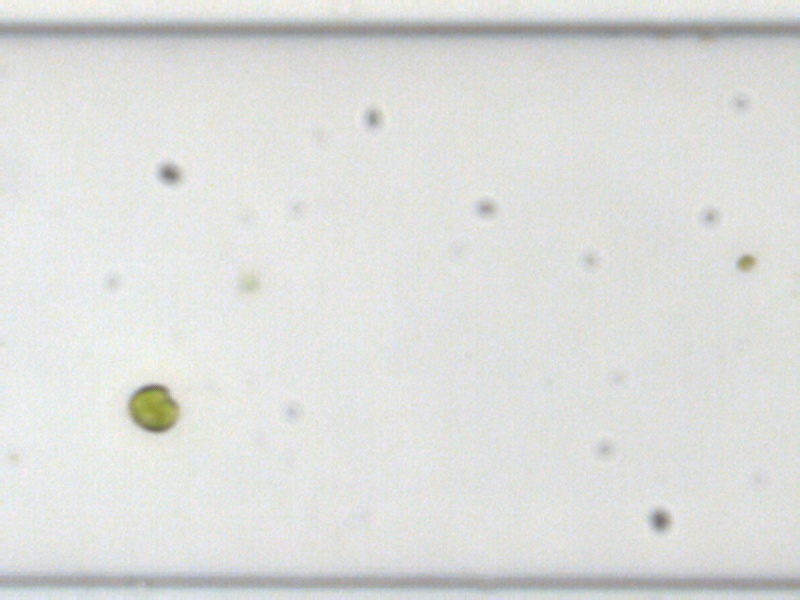Chlorella: (234, 269, 258, 293), (733, 251, 755, 270)
Platymonas: (129, 383, 180, 434)
